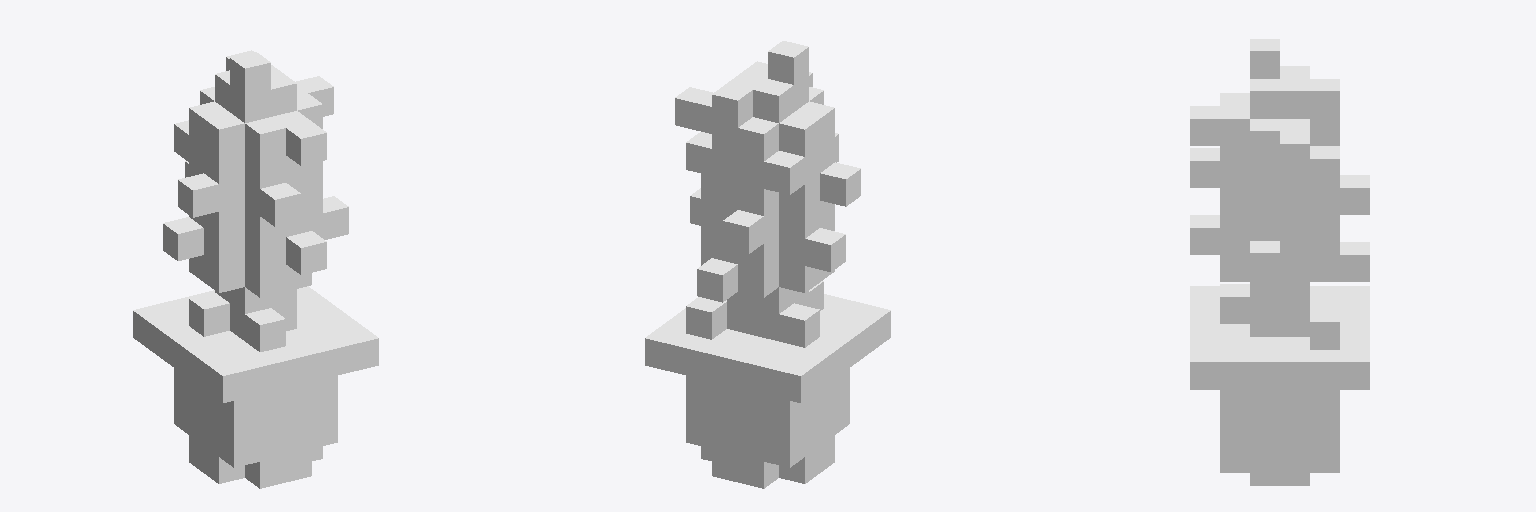
File: kaktus.obj
3 views of the same model, side by side, from view 1: azimuth 30°, elevation 25°; view 2: azimuth 150°, elevation 25°; view 3: azimuth 270°, elevation 25° (orthographic).
Parts seen in each view (by area): view 1: object 1; view 2: object 1; view 3: object 1.
Part boxes in pixels (left/top/right/bottom): object 1: left=133, top=50, right=378, bottom=488; object 1: left=645, top=41, right=890, bottom=488; object 1: left=1190, top=39, right=1369, bottom=485.
Size of the model in its own units: 0.6 by 1.5 by 0.6.